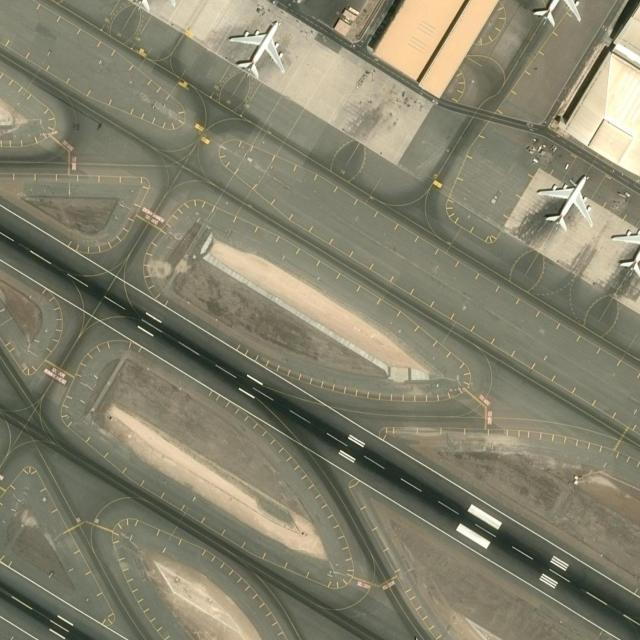Aircraft: (228, 20, 286, 78), (536, 174, 594, 230), (523, 0, 582, 26), (611, 226, 639, 278)
